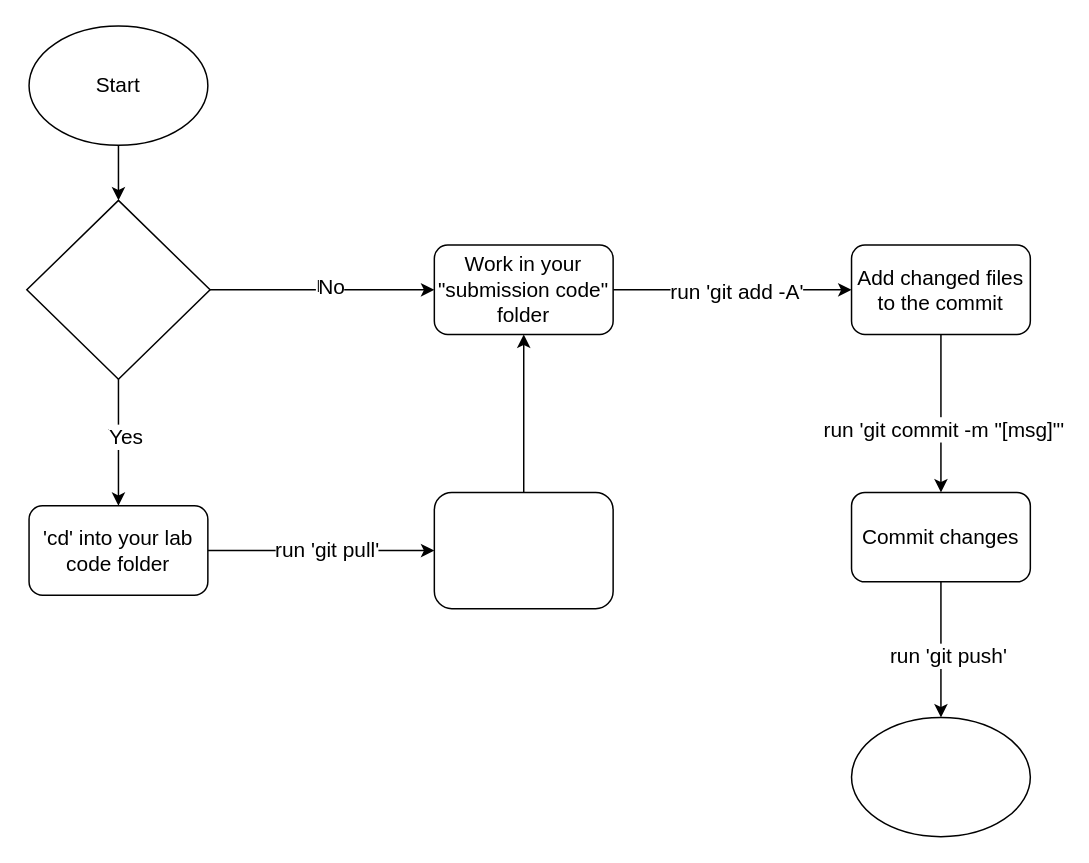
Image size: 1089x863. Some labels were removed from this diagram. Each missing label, with the box of its shape:
Copy (only) new minitask folders into "submission code" folder: (433, 491, 613, 609)
End of lab: (850, 716, 1030, 837)
New lab code released?: (25, 199, 210, 379)
